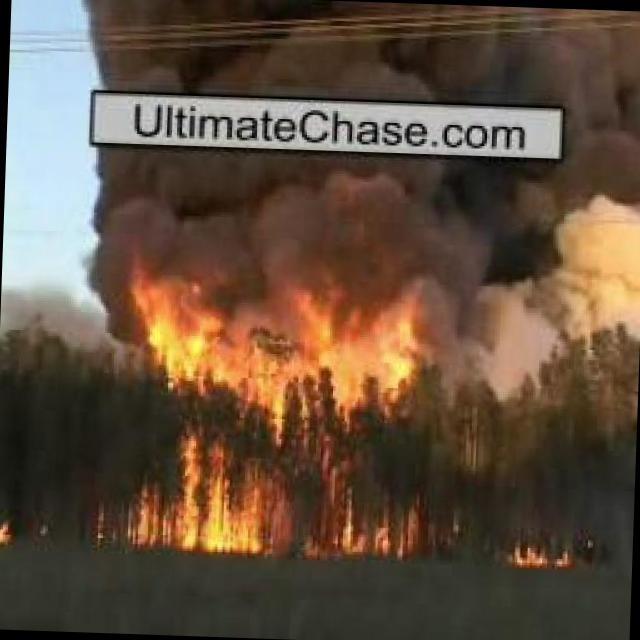Fire: (123, 252, 434, 558), (515, 547, 572, 564), (0, 521, 15, 549)
Smoke: (94, 143, 640, 312), (78, 0, 640, 112)
